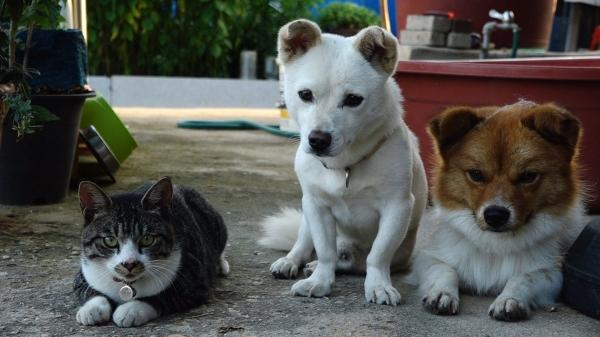cats: (68, 173, 232, 328)
dogs: (263, 13, 423, 310), (426, 97, 583, 331)
